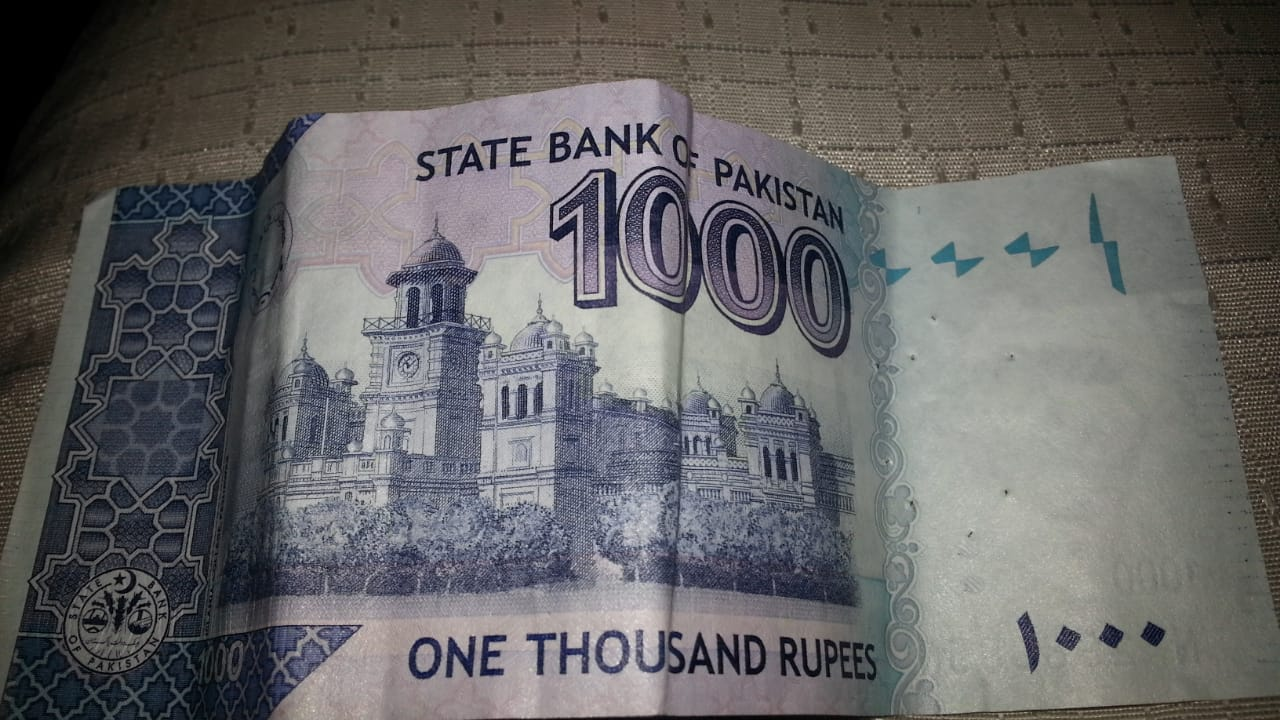1000 rupee: (43, 101, 1269, 719)
